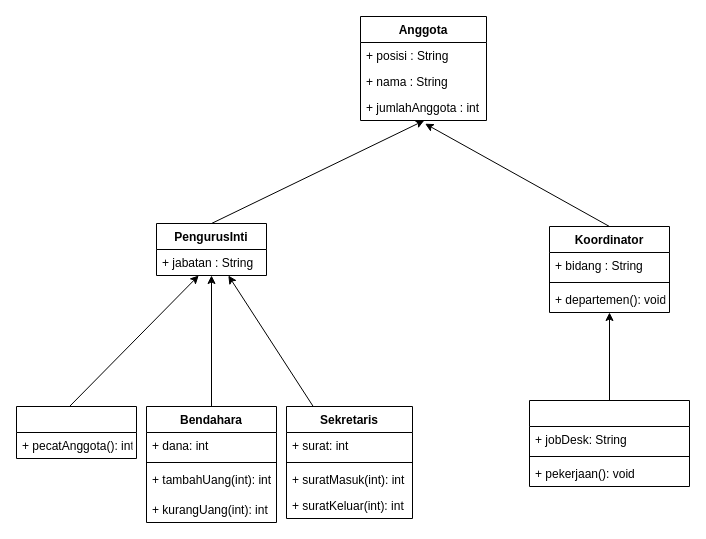
This 706x539 diagram has some shape labels left out. Each missing label, with the box of its shape:
Ketua: (16, 406, 136, 458)
Staff: (528, 400, 690, 486)
